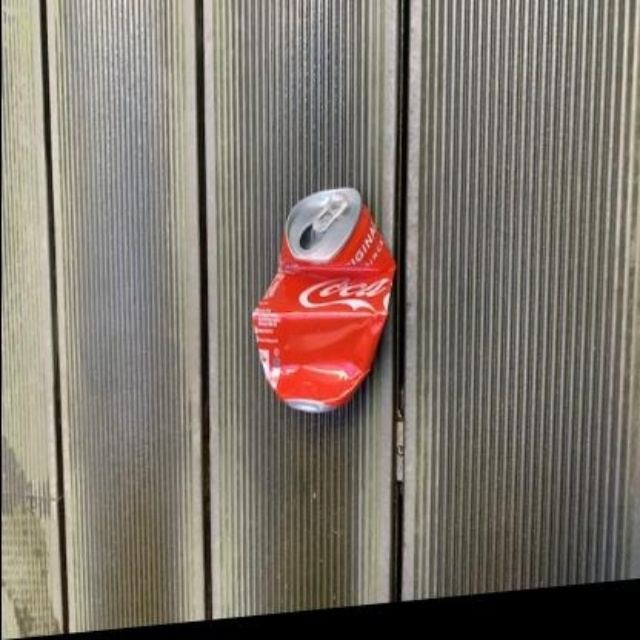trash: (252, 188, 394, 411)
